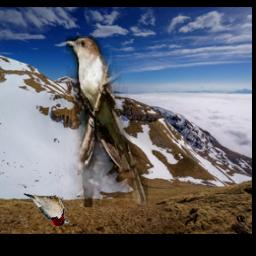Cuckoo: (65, 37, 147, 208)
Woodpecker: (23, 194, 71, 227)
